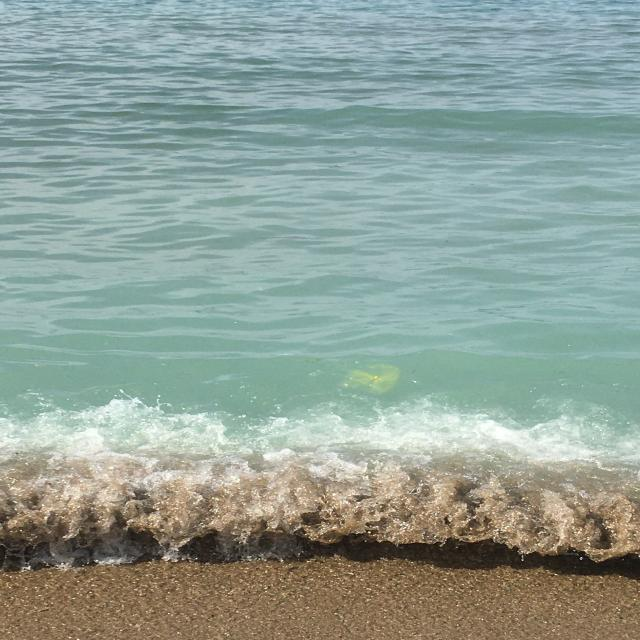Plastic bag: (335, 360, 405, 397)
